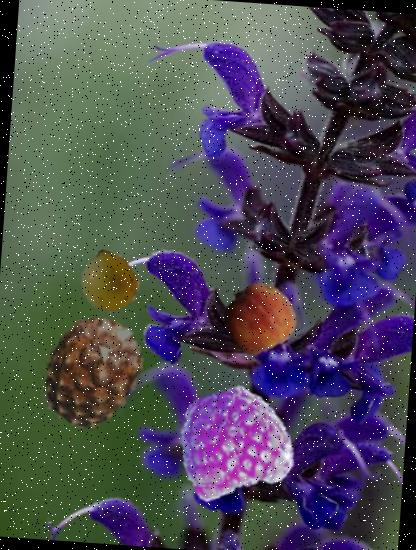Grape: (75, 248, 142, 315)
Peach: (219, 279, 296, 355)
Pineapple: (29, 309, 154, 434)
Raspberry: (174, 380, 296, 503)
